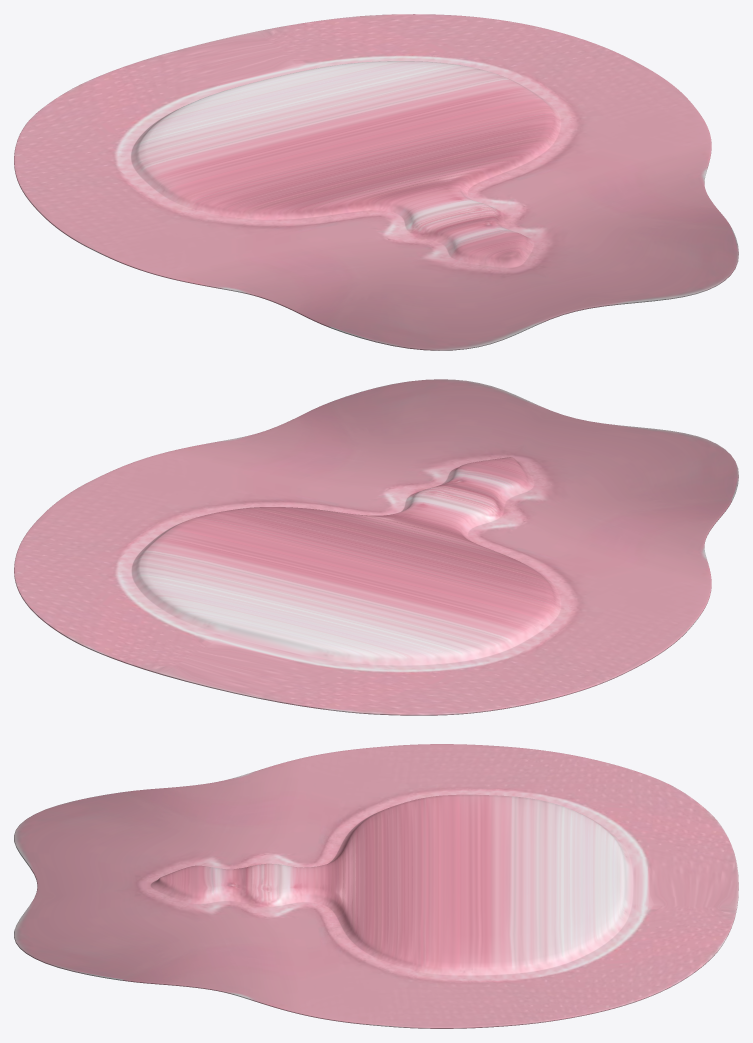
Rendered from BedsorePlaster_high.fbx.
3 renders of one model, top to bottom at view 1: azimuth 30°, elevation 25°; view 2: azimuth 150°, elevation 25°; view 3: azimuth 270°, elevation 25°, orthographic. The views are drawn at different scales.
Visible parts, largest first — view 1: BedsorePlaster_high; view 2: BedsorePlaster_high; view 3: BedsorePlaster_high.
Boxes of the visible parts, bbox=[...] form: BedsorePlaster_high: bbox=[14, 14, 738, 350]; BedsorePlaster_high: bbox=[14, 379, 738, 715]; BedsorePlaster_high: bbox=[14, 744, 738, 1028].
Bounding box in the file's own units: 0.8683 × 0.0281 × 0.9373.
Materials: 1 (1 with a texture image).
